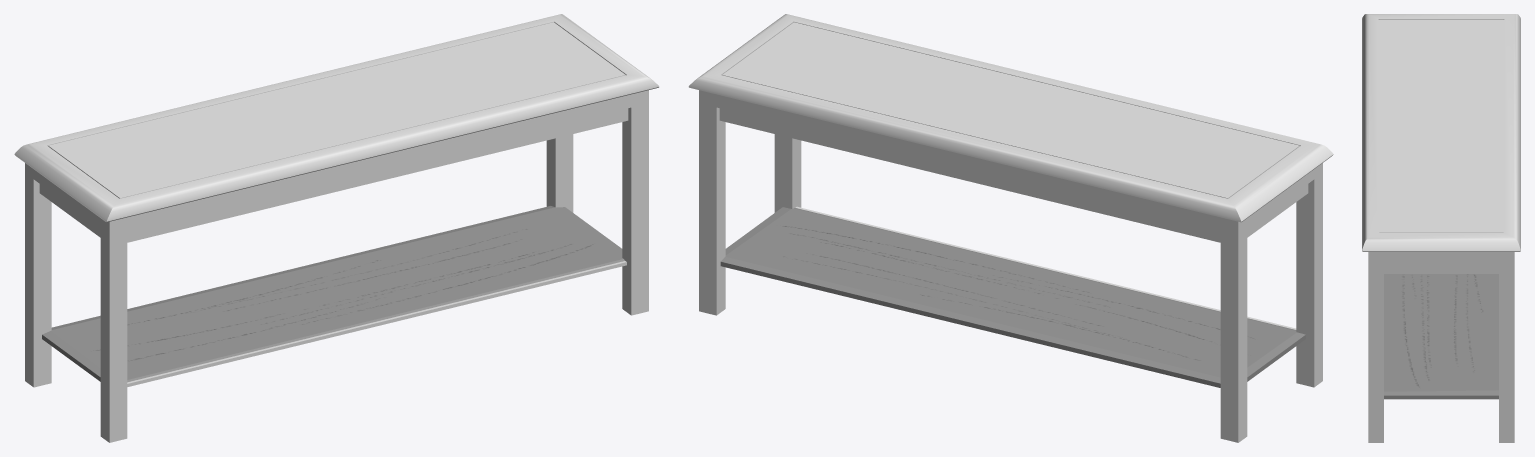
File: HallwayTable.fbx
3 views of the same model, side by side, from view 1: azimuth 30°, elevation 25°; view 2: azimuth 150°, elevation 25°; view 3: azimuth 270°, elevation 25° (orthographic). The views are drawn at different scales.
Visible parts, largest first — view 1: HallwayTable; view 2: HallwayTable; view 3: HallwayTable.
Part boxes in pixels (x1,y1,x2,y2): HallwayTable: [14, 14, 659, 442]; HallwayTable: [688, 14, 1333, 442]; HallwayTable: [1362, 14, 1520, 442].
Bounding box in the file's own units: 684 × 279 × 197.
